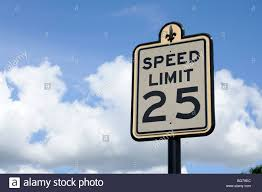sp25: (139, 84, 213, 122)
